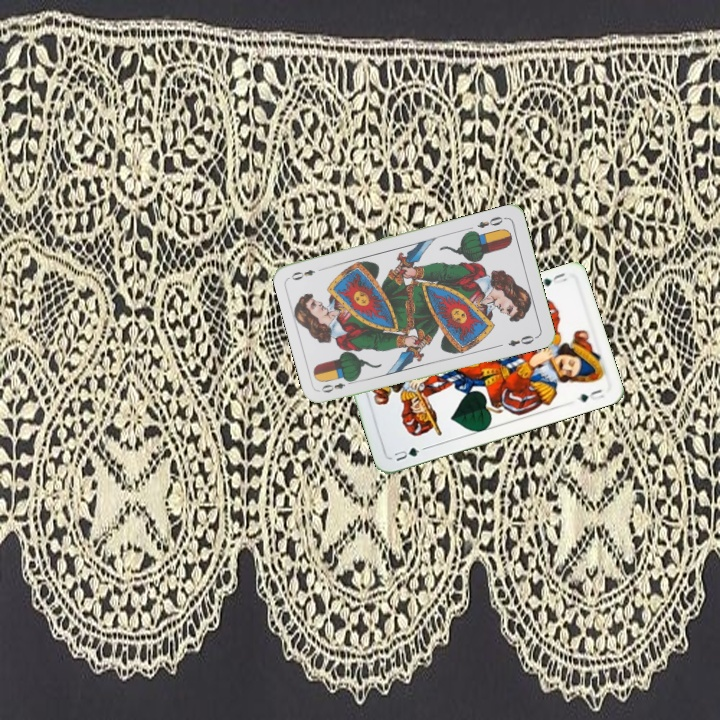EO: (317, 375, 357, 395), (473, 212, 508, 231)
GU: (390, 443, 428, 464), (540, 269, 570, 289)
